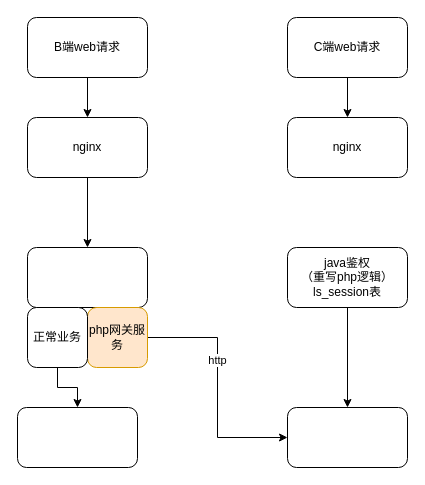
Some shapes in this 425 by 485 pixel diagram are drawn without their labels. The shapes that lost their labels are listed below. From the top down, each one's centre as x and y in pixels, then its label:
At [87,277]: "php鉴权".
At [77,437]: "php业务".
At [347,437]: "java服务接口".
